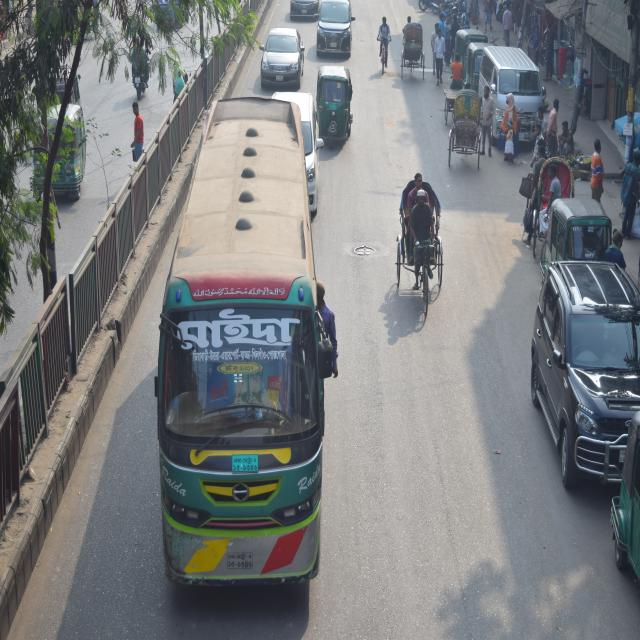bus: (155, 106, 330, 596)
car: (522, 244, 640, 508), (257, 21, 304, 86), (315, 0, 356, 60)
microbus: (478, 42, 540, 158), (271, 86, 331, 191)
